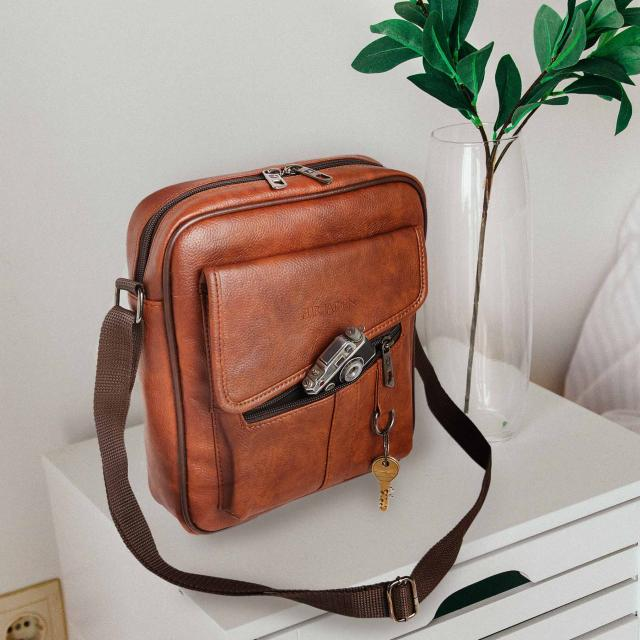backpack: (94, 155, 529, 625)
